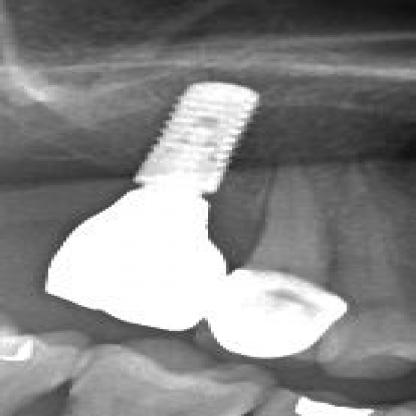ITI: (112, 72, 291, 203)
